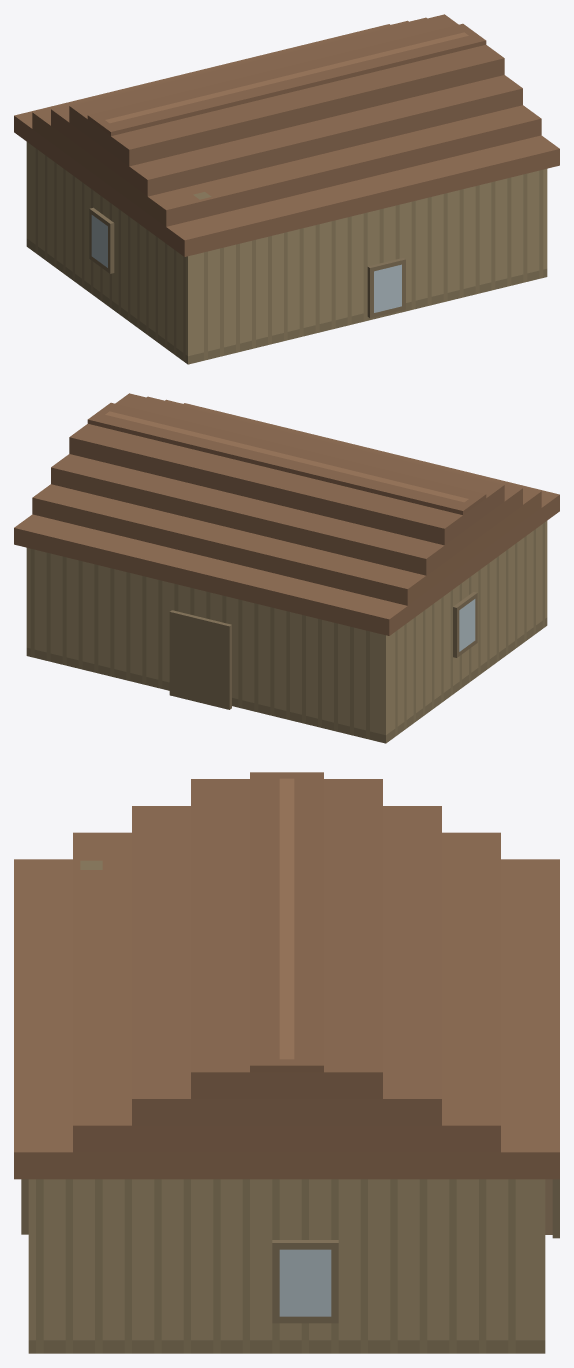
The model's file is taller_arquero_03.glb.
3 views of the same model, one above another, from view 1: azimuth 30°, elevation 25°; view 2: azimuth 150°, elevation 25°; view 3: azimuth 270°, elevation 25° (orthographic). The views are drawn at different scales.
Visible parts, largest first — view 1: taller_arquero_03; view 2: taller_arquero_03; view 3: taller_arquero_03.
Boxes of the visible parts, box(x1,y1,x2,y2) form: taller_arquero_03: box(14, 14, 559, 364); taller_arquero_03: box(14, 393, 559, 743); taller_arquero_03: box(14, 772, 559, 1353).
Bounding box in the file's own units: 9.4 × 4.4 × 7.4.
